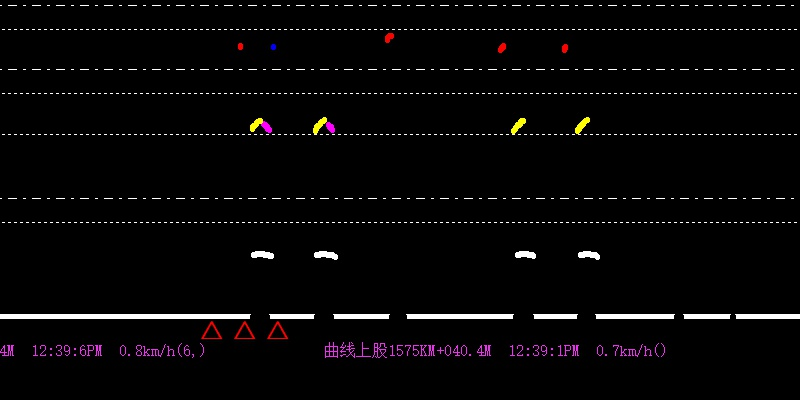face_down: (384, 24, 396, 46)
